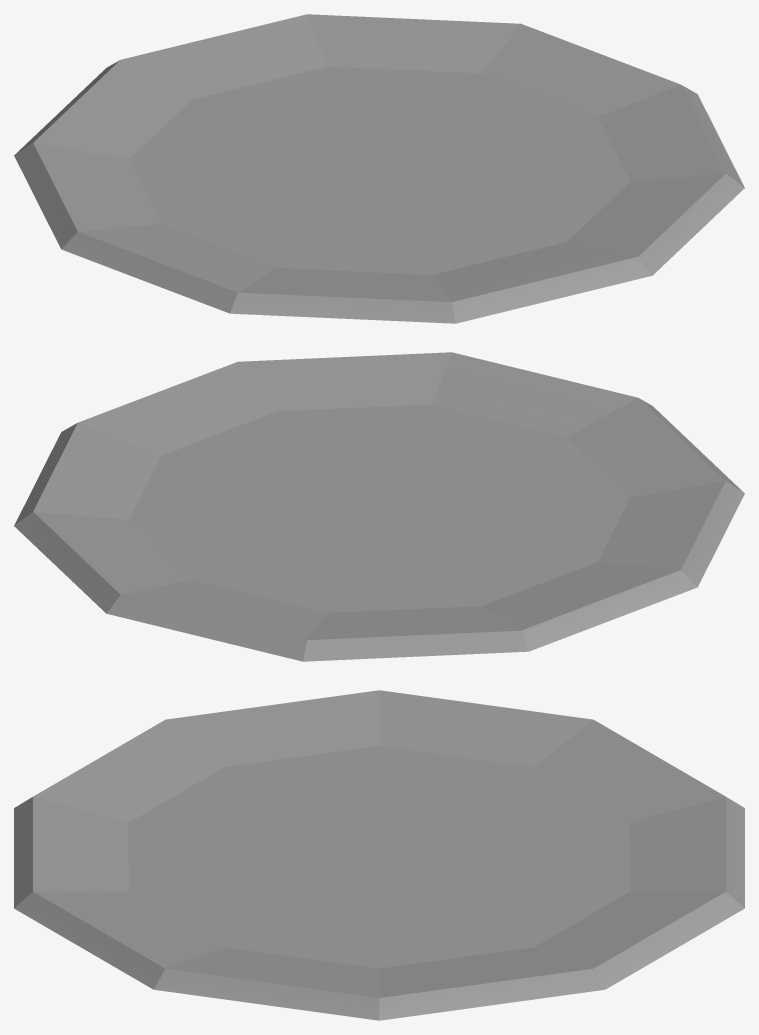
The model's file is plateempty.glb.
3 renders of one model, top to bottom at view 1: azimuth 30°, elevation 25°; view 2: azimuth 150°, elevation 25°; view 3: azimuth 270°, elevation 25°, orthographic. The views are drawn at different scales.
Parts seen in each view (by area): view 1: PlateEmpty_mesh1; view 2: PlateEmpty_mesh1; view 3: PlateEmpty_mesh1.
Part boxes in pixels (x1=…): PlateEmpty_mesh1: x1=14, y1=14, x2=744, y2=323; PlateEmpty_mesh1: x1=14, y1=352, x2=744, y2=661; PlateEmpty_mesh1: x1=14, y1=690, x2=744, y2=1020.
Bounding box in the file's own units: 0.4204 × 0.033 × 0.3998.
Materials: 1 (1 with a texture image).
